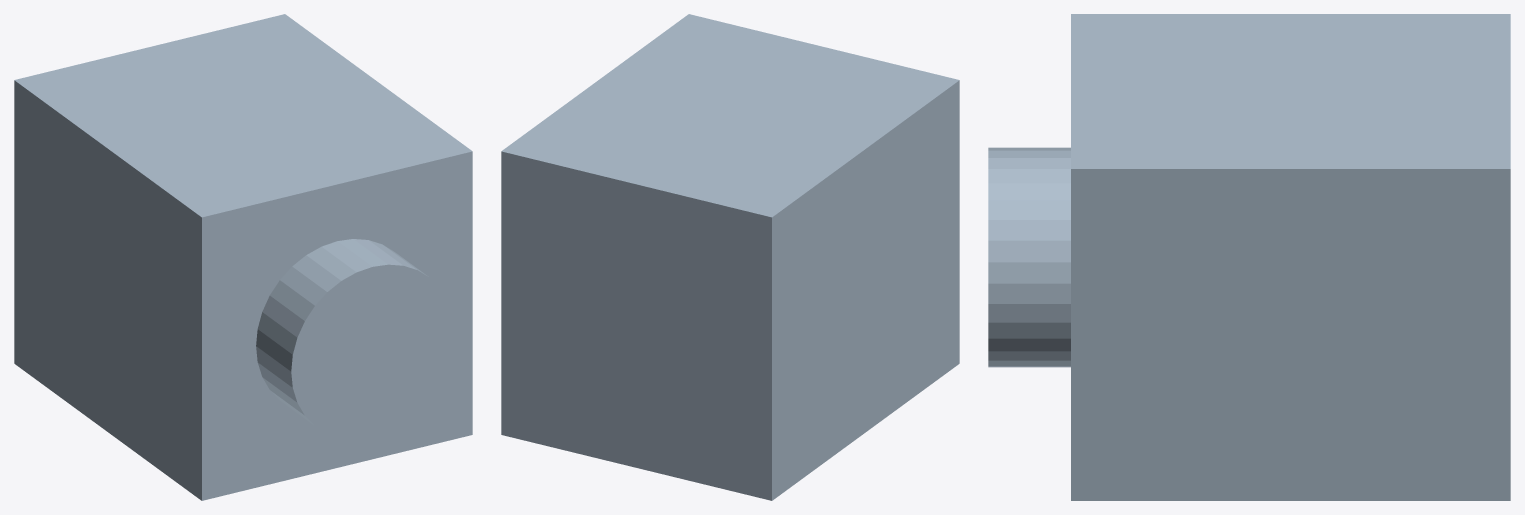
Rendered from brick_2.glb.
3 renders of one model, left to right at view 1: azimuth 30°, elevation 25°; view 2: azimuth 150°, elevation 25°; view 3: azimuth 270°, elevation 25°, orthographic. The views are drawn at different scales.
Visible parts, largest first — view 1: world; view 2: world; view 3: world.
Part boxes in pixels (box(x1,y1,x2,y2)): world: box(14, 14, 472, 500); world: box(501, 14, 959, 500); world: box(988, 14, 1510, 500).
Size of the model in its own units: 8 by 8 by 11.4.
